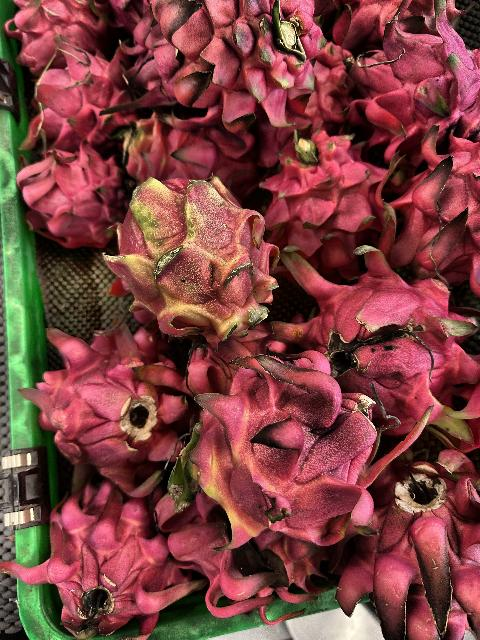buah-naga-belum-matang: (198, 350, 384, 570), (107, 173, 274, 333)
buah-naga-matang: (278, 241, 478, 425), (19, 476, 190, 620), (20, 316, 184, 466), (346, 458, 480, 636), (356, 0, 480, 152), (374, 118, 480, 288), (172, 0, 316, 116), (264, 134, 378, 256), (115, 108, 253, 198), (13, 144, 121, 226), (28, 52, 128, 136), (119, 0, 171, 100), (5, 0, 103, 52), (330, 0, 468, 34), (312, 29, 350, 121)
